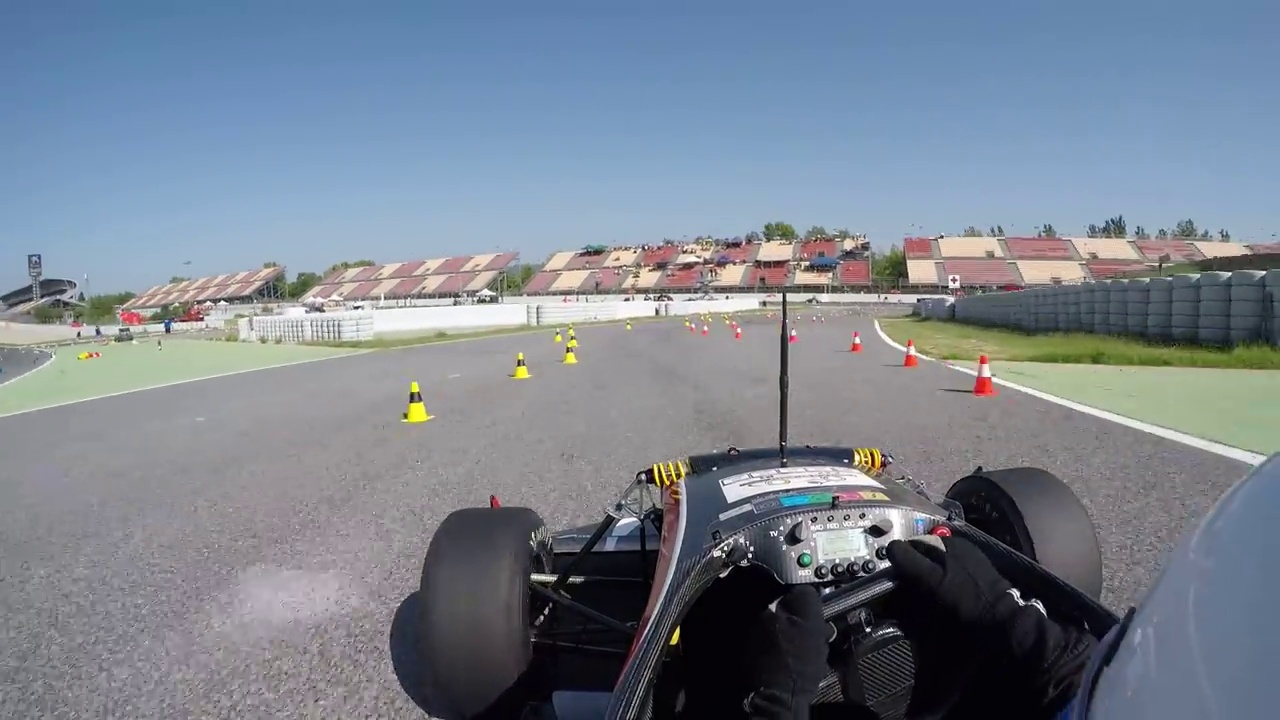Cone: (402, 377, 430, 421), (971, 353, 999, 395)
